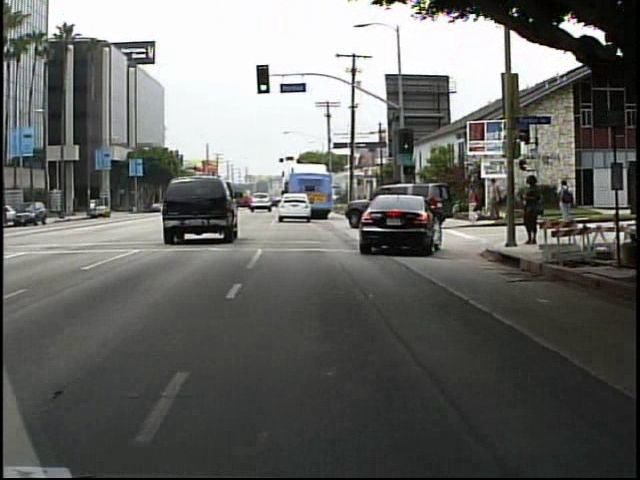person: (518, 171, 543, 252), (463, 179, 486, 228), (555, 178, 577, 221), (486, 178, 503, 222)
